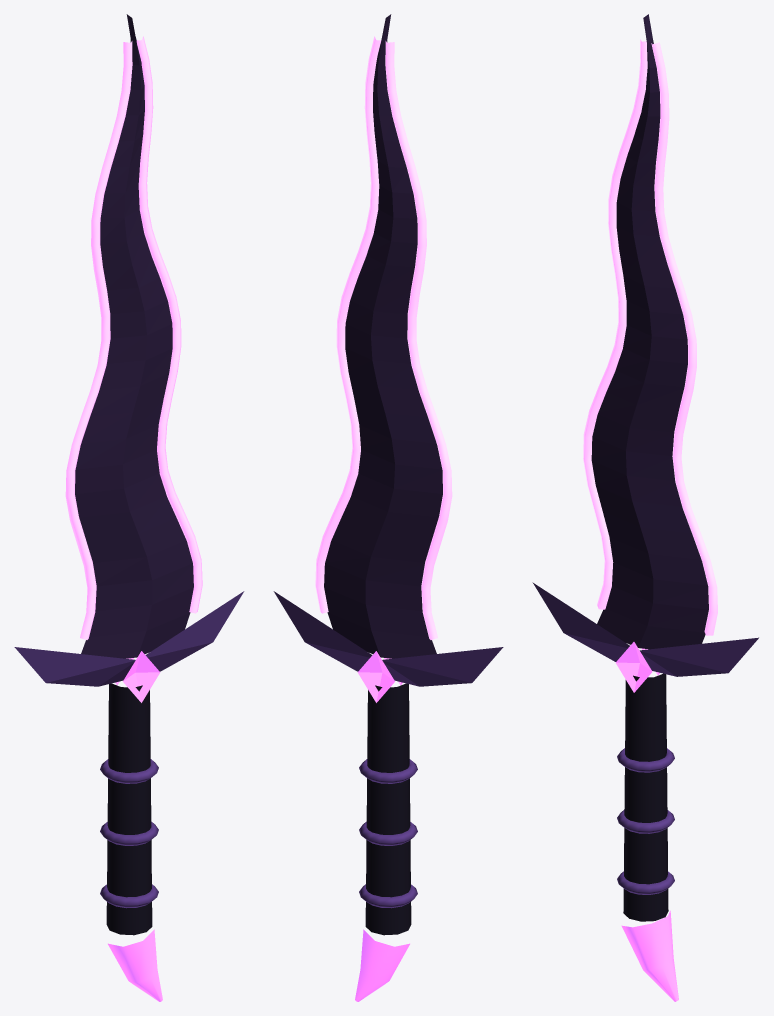
Rendered from dagger_6.glb.
3 views of the same model, side by side, from view 1: azimuth 30°, elevation 25°; view 2: azimuth 150°, elevation 25°; view 3: azimuth 330°, elevation 25° (orthographic).
Visible parts, largest first — view 1: dagger_6; view 2: dagger_6; view 3: dagger_6.
Part boxes in pixels (x1,y1,x2,y2): dagger_6: (14, 14, 244, 1001); dagger_6: (273, 14, 503, 1001); dagger_6: (532, 14, 758, 1001).
Bounding box in the file's own units: 0.22 × 0.906 × 0.06.
